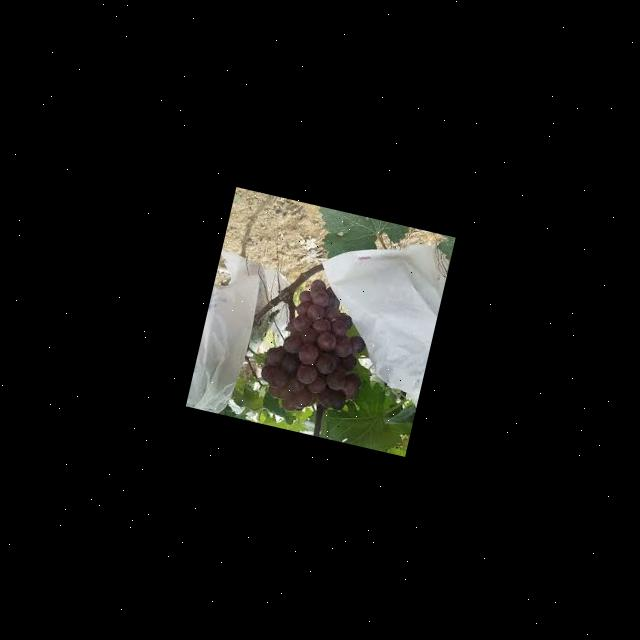grape: (252, 270, 380, 424)
